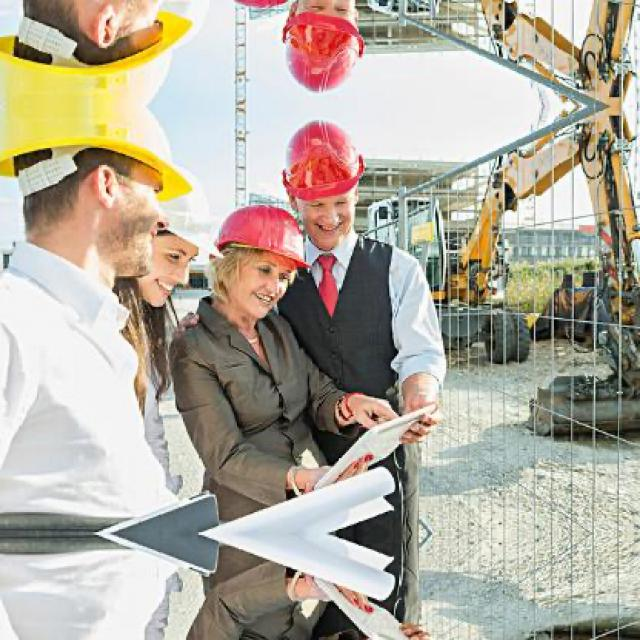helmet: (1, 108, 194, 282), (2, 0, 196, 106), (120, 165, 220, 307), (284, 119, 370, 245), (212, 205, 306, 319), (283, 0, 371, 96), (121, 0, 222, 49)
